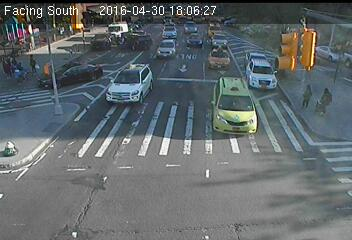neg: (165, 112, 186, 139), (7, 132, 27, 158), (251, 76, 271, 102), (284, 184, 298, 203), (115, 63, 128, 79), (77, 57, 87, 71)
pos: (313, 85, 335, 115), (297, 83, 318, 111), (23, 51, 40, 73)
